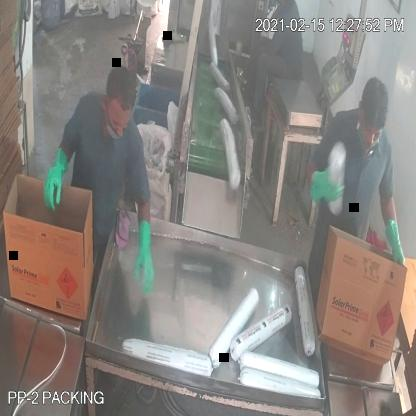glove: (126, 210, 164, 311), (35, 136, 71, 218), (383, 207, 412, 277), (309, 158, 345, 214)
